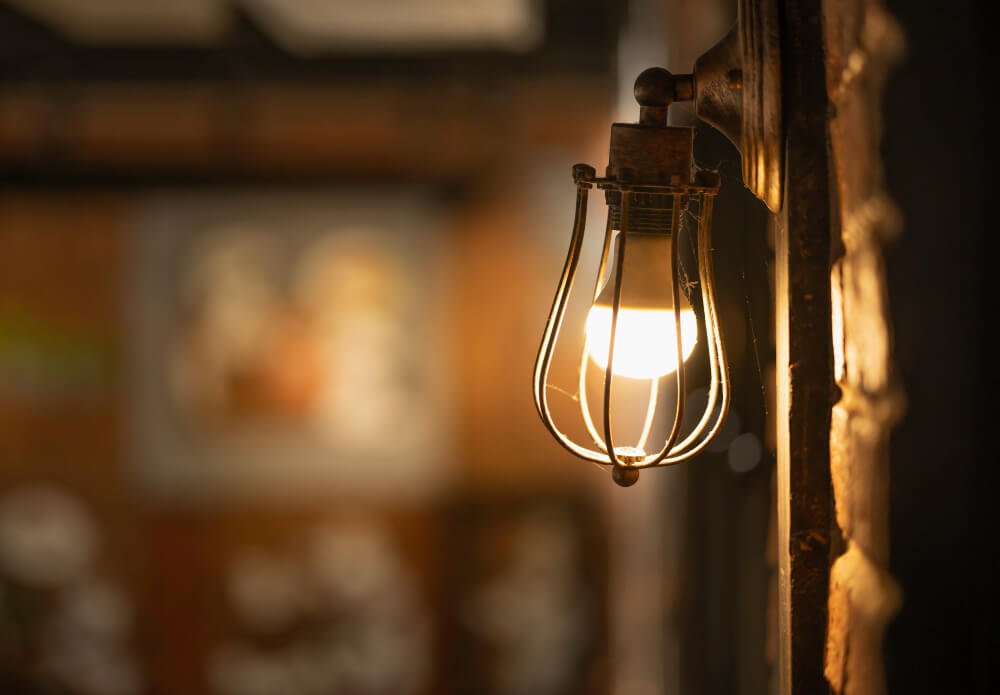Light_bulb: (577, 213, 711, 380)
